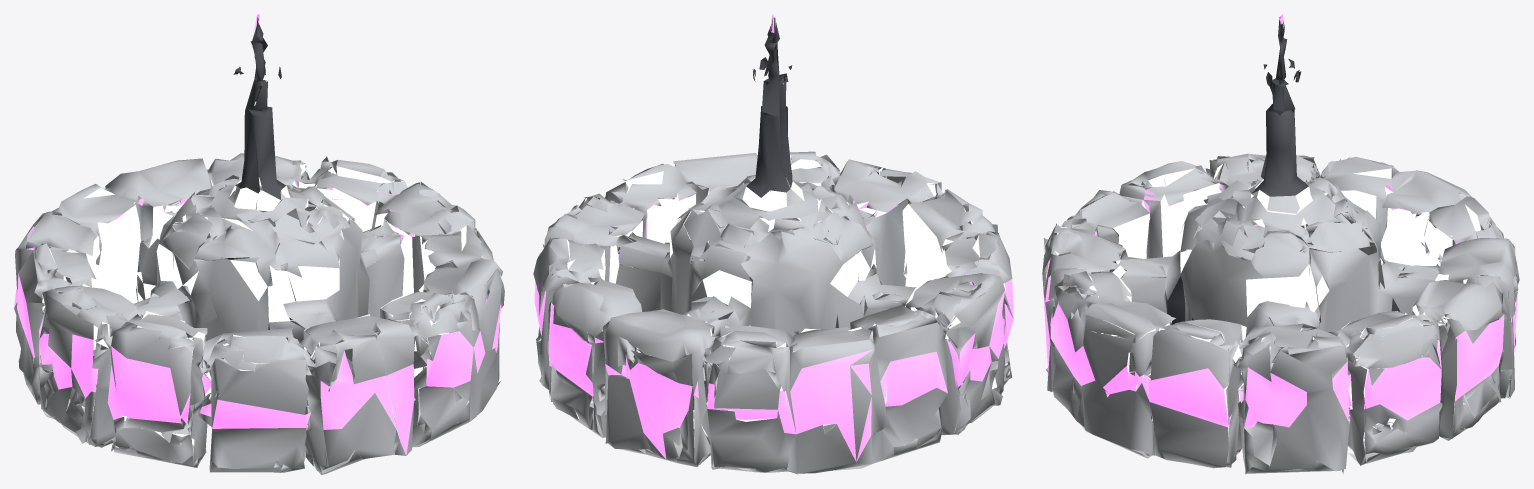
The model's file is SM_Core_v1_slots.fbx.
3 renders of one model, left to right at view 1: azimuth 30°, elevation 25°; view 2: azimuth 150°, elevation 25°; view 3: azimuth 270°, elevation 25°, orthographic.
Parts seen in each view (by area): view 1: SM_Core; view 2: SM_Core; view 3: SM_Core.
Part boxes in pixels (bbox=[...]): SM_Core: bbox=[14, 14, 504, 474]; SM_Core: bbox=[533, 14, 1013, 474]; SM_Core: bbox=[1042, 14, 1519, 474].
Size of the model in its own units: 0.9414 by 0.8159 by 0.9382.
